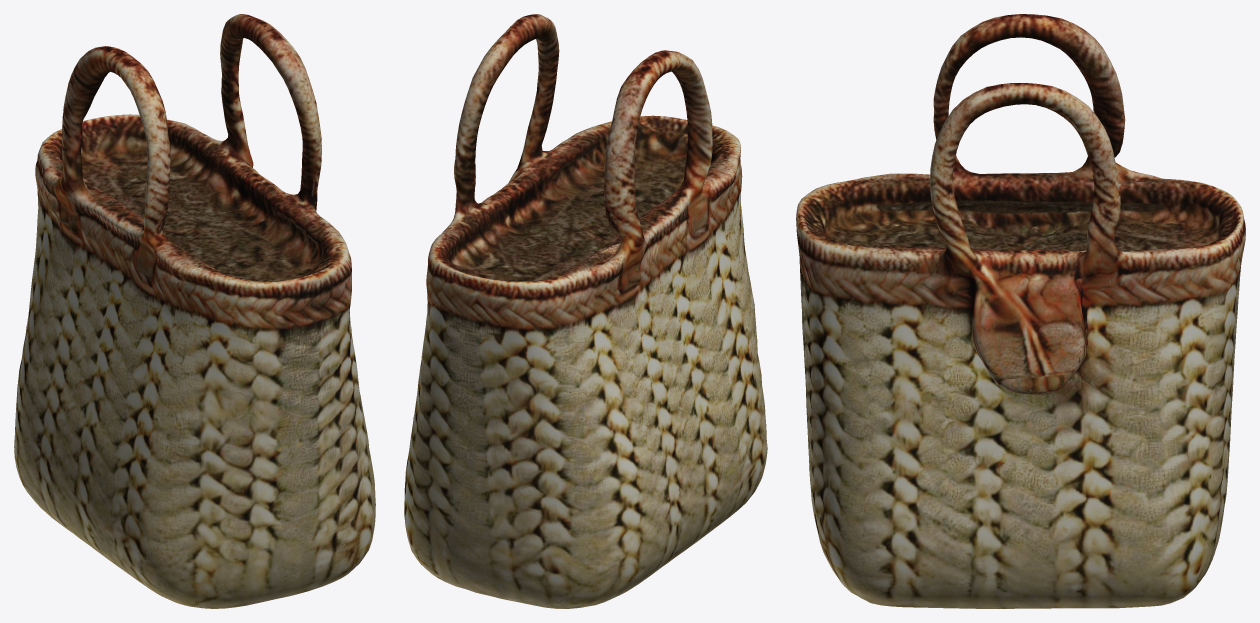
File: bolsa.glb
The picture shows the model from 3 angles, left to right: view 1: azimuth 30°, elevation 25°; view 2: azimuth 150°, elevation 25°; view 3: azimuth 270°, elevation 25°; orthographic projection. The views are drawn at different scales.
Visible parts, largest first — view 1: node_b72ec4f7_be2d_422a_b210_6e8ed32d6b34_mesh0; view 2: node_b72ec4f7_be2d_422a_b210_6e8ed32d6b34_mesh0; view 3: node_b72ec4f7_be2d_422a_b210_6e8ed32d6b34_mesh0.
Boxes of the visible parts, x1,y1,x2,y2 form: node_b72ec4f7_be2d_422a_b210_6e8ed32d6b34_mesh0: [14, 14, 375, 608]; node_b72ec4f7_be2d_422a_b210_6e8ed32d6b34_mesh0: [404, 14, 767, 608]; node_b72ec4f7_be2d_422a_b210_6e8ed32d6b34_mesh0: [796, 14, 1245, 608].
Size of the model in its own units: 0.5194 by 0.9988 by 0.777.
1 material, 1 textured.
